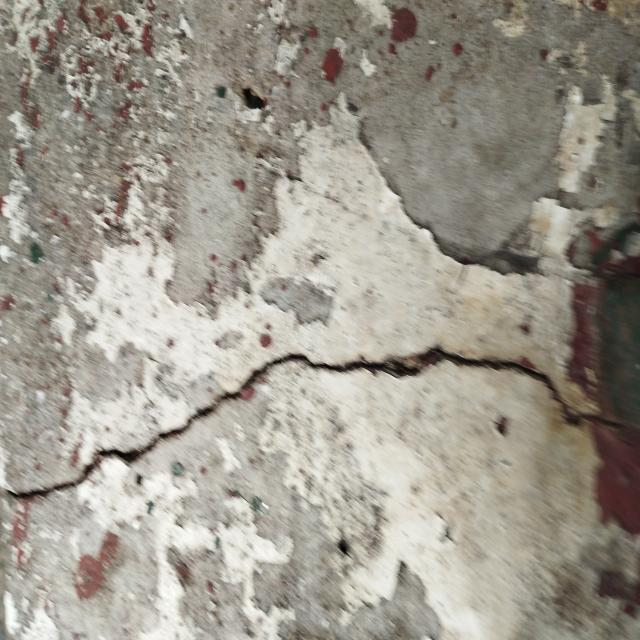curved crack: (4, 349, 640, 500)
